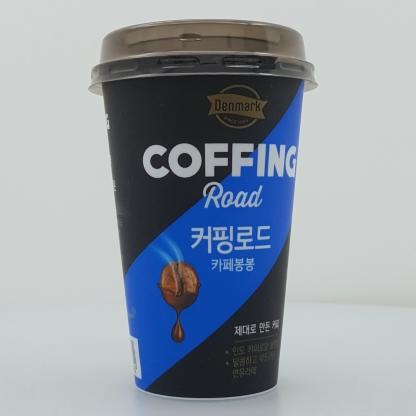---------: (88, 19, 318, 401)
